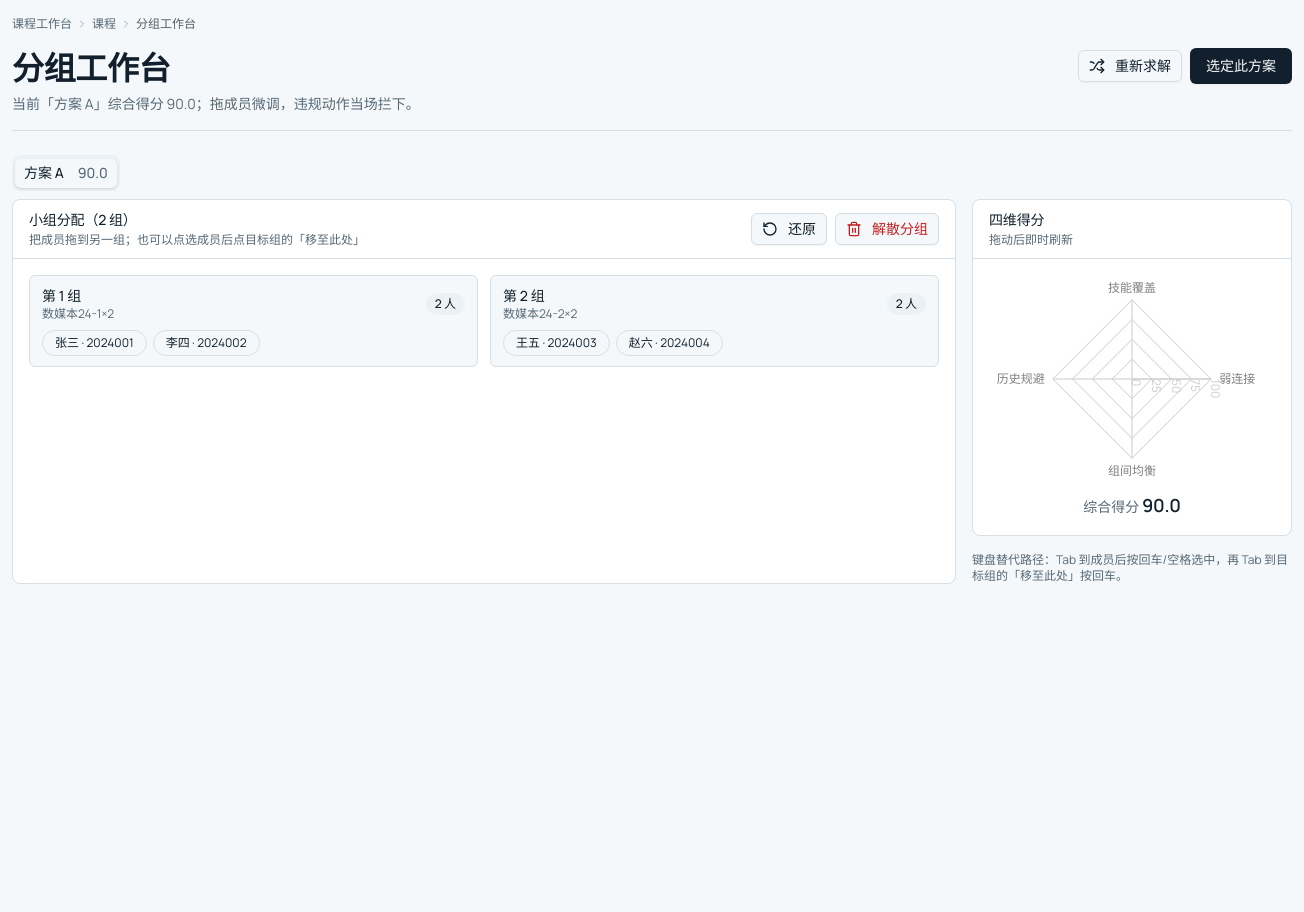
Scenario: 分组工作台：移动失败必须回滚且说话 › 预演与落库都成功时才更新卡片与面板（防止测试只会变红）
The image size is (1304, 912).
Expected: the tab "方案 A 90.0" is shown, [15,158,117,188]
Click the button "李四 · 2024002". click: (206, 343)
box: [153,330,260,356]
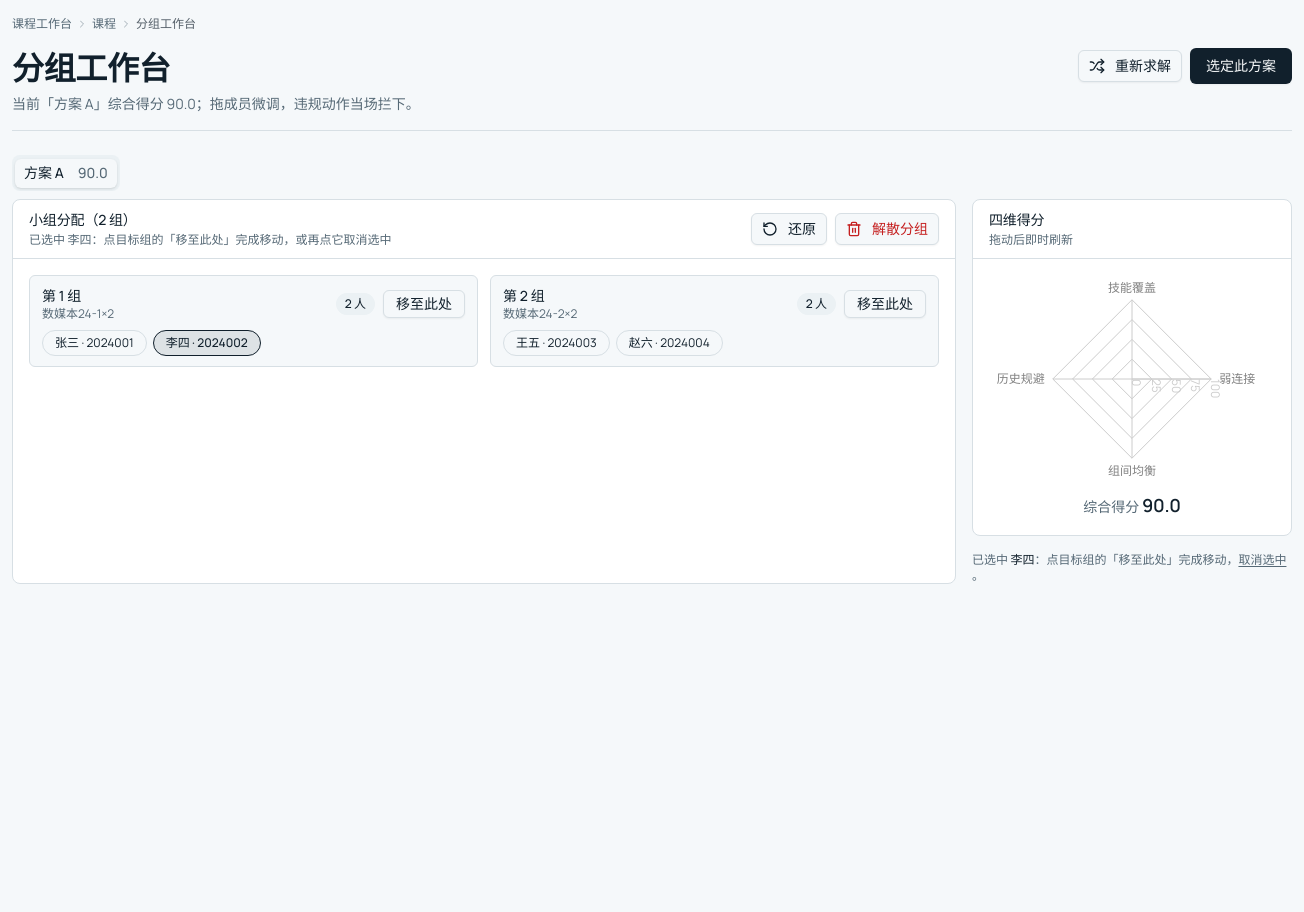
Click the button with aria-label "把 李四 移到第 2 组". click: (885, 304)
box: [844,290,926,318]
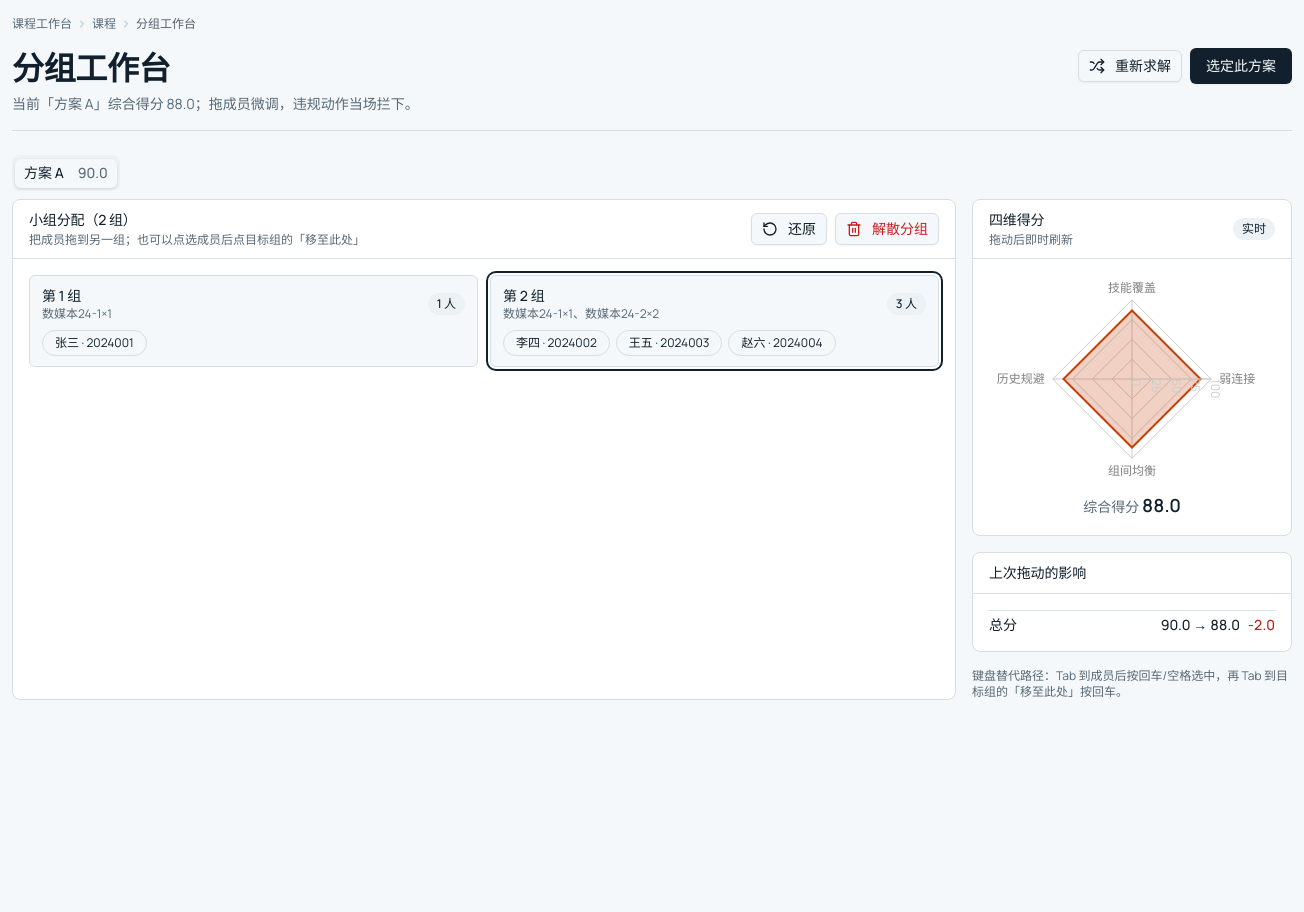
Now the text "当前「方案 A」综合得分 88.0；拖成员微调，违规动作当场拦下。" is shown, box [12,94,419,114]
